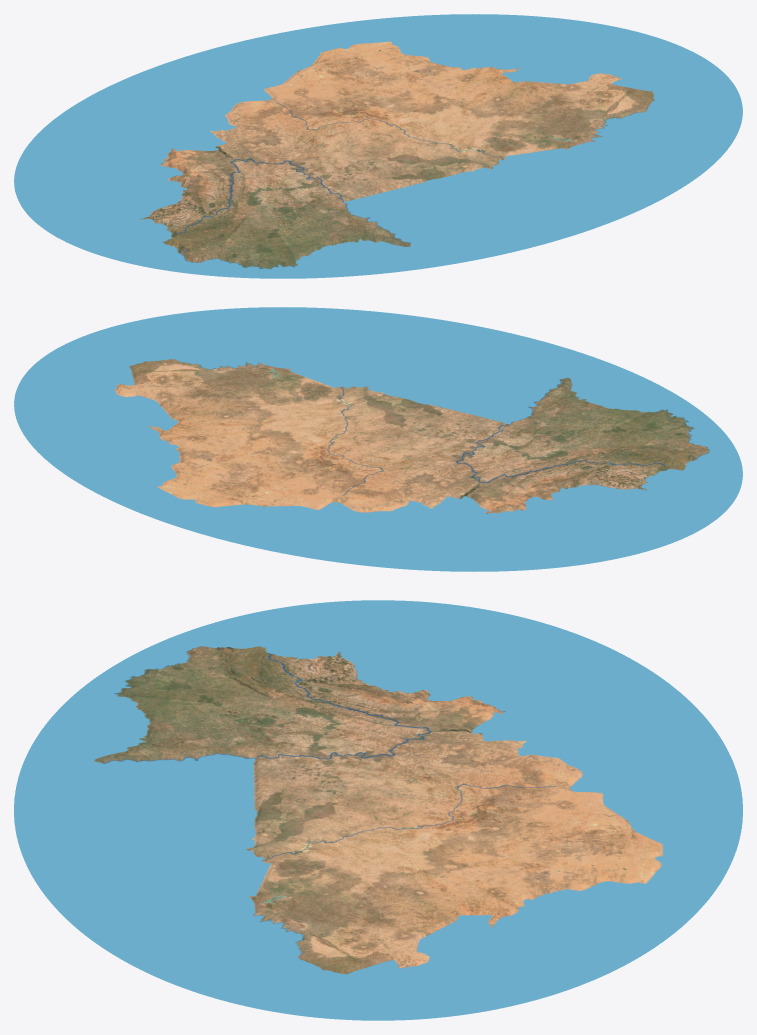
File: BFA-previa-terrain.glb
The picture shows the model from 3 angles, top to bottom: view 1: azimuth 30°, elevation 25°; view 2: azimuth 150°, elevation 25°; view 3: azimuth 270°, elevation 25°; orthographic projection. The views are drawn at different scales.
Visible parts, largest first — view 1: Burkina Faso; view 2: Burkina Faso; view 3: Burkina Faso.
Boxes of the visible parts, x1,y1,x2,y2 form: Burkina Faso: [14, 14, 742, 278]; Burkina Faso: [14, 307, 742, 571]; Burkina Faso: [14, 600, 742, 1020].
Size of the model in its own units: 2.26 by 0.0153 by 1.66.
1 material, 1 textured.
